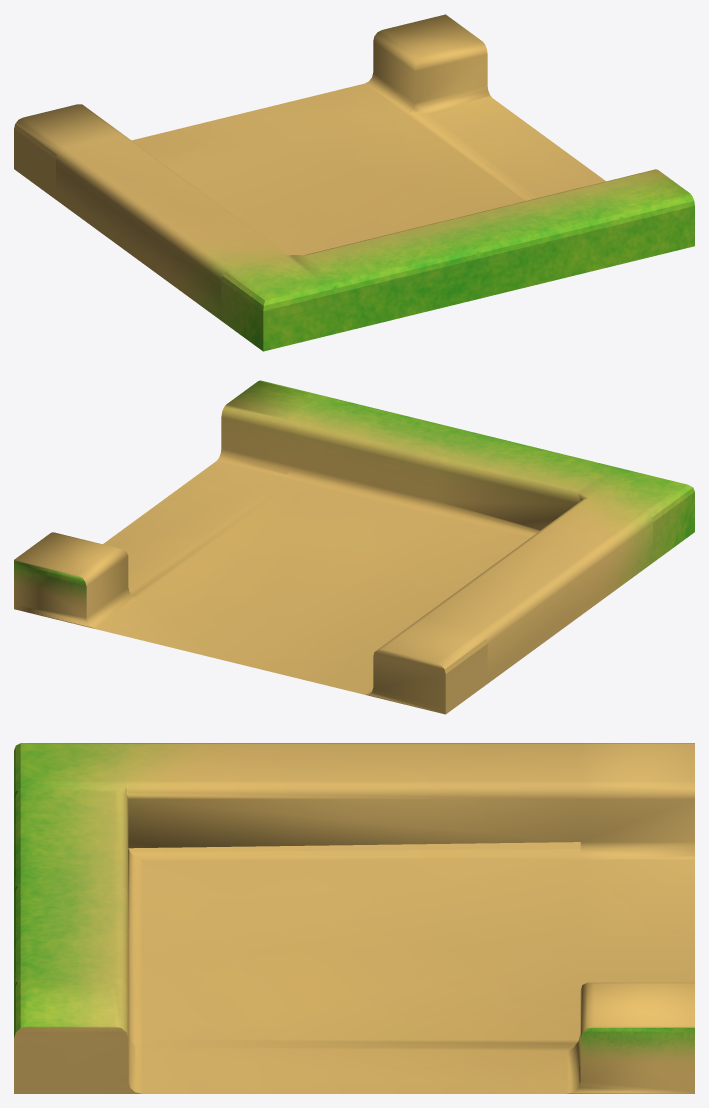
The model's file is Map014.obj.
The picture shows the model from 3 angles, top to bottom: view 1: azimuth 30°, elevation 25°; view 2: azimuth 150°, elevation 25°; view 3: azimuth 270°, elevation 25°; orthographic projection. The views are drawn at different scales.
Visible parts, largest first — view 1: Map.01_Plane.004; view 2: Map.01_Plane.004; view 3: Map.01_Plane.004.
Part boxes in pixels (<box>): Map.01_Plane.004: <box>14,14,694,351</box>; Map.01_Plane.004: <box>14,380,694,714</box>; Map.01_Plane.004: <box>14,743,694,1093</box>.
Bounding box in the file's own units: 1 × 0.1093 × 1.
1 material, 1 textured.
